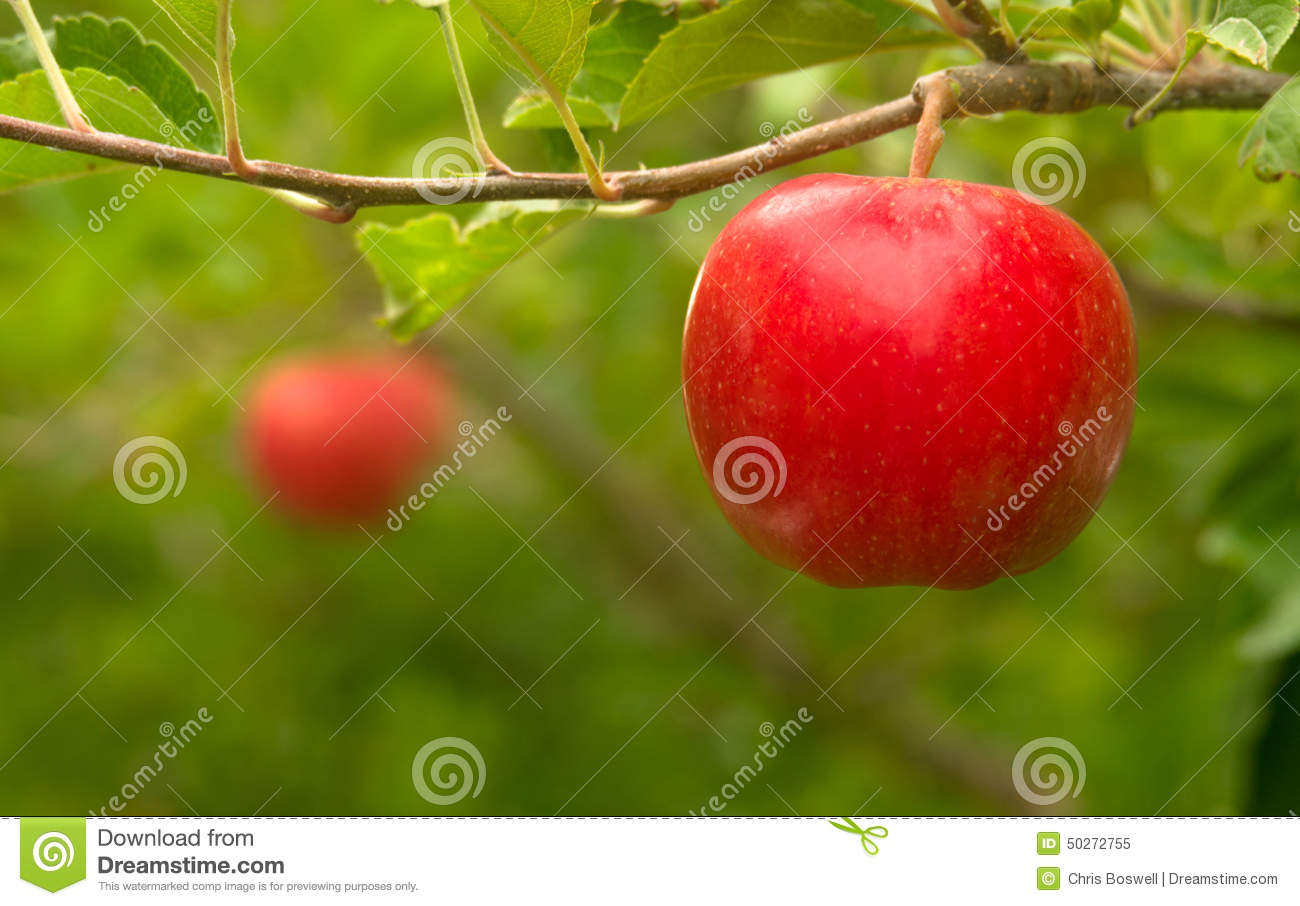apple: (675, 170, 1137, 592)
